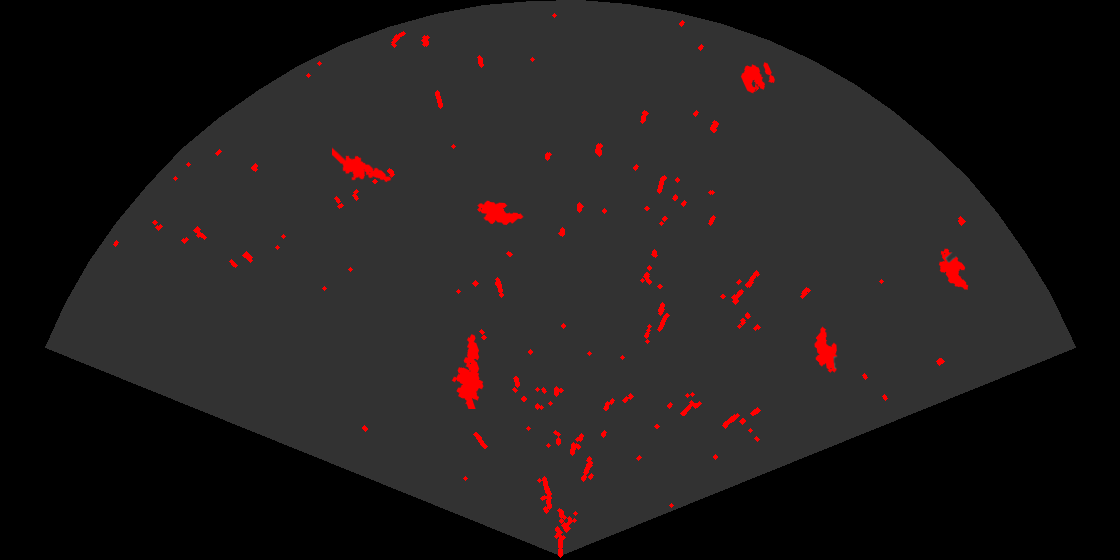AUV: (937, 247, 970, 291), (476, 199, 525, 227), (813, 325, 839, 374)
ball: (739, 61, 777, 95)
frogman: (450, 333, 485, 409), (332, 146, 393, 184)
